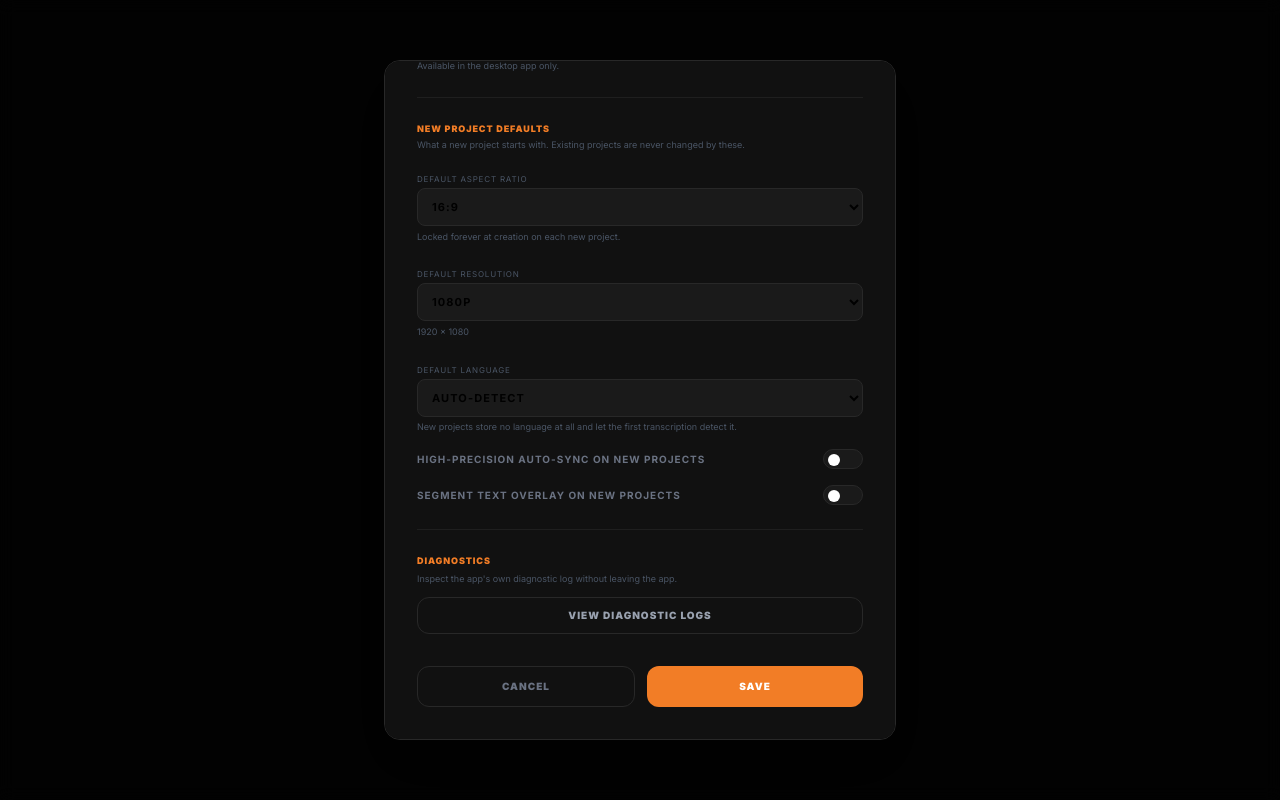
Test: AppSettingsModal — Diagnostics block › opens the diagnostic log modal from the Diagnostics block
(page scrolled)
Click the button with test id "app-settings-view-diagnostic-log" at coordinates (640, 616), box [417,597,863,634]
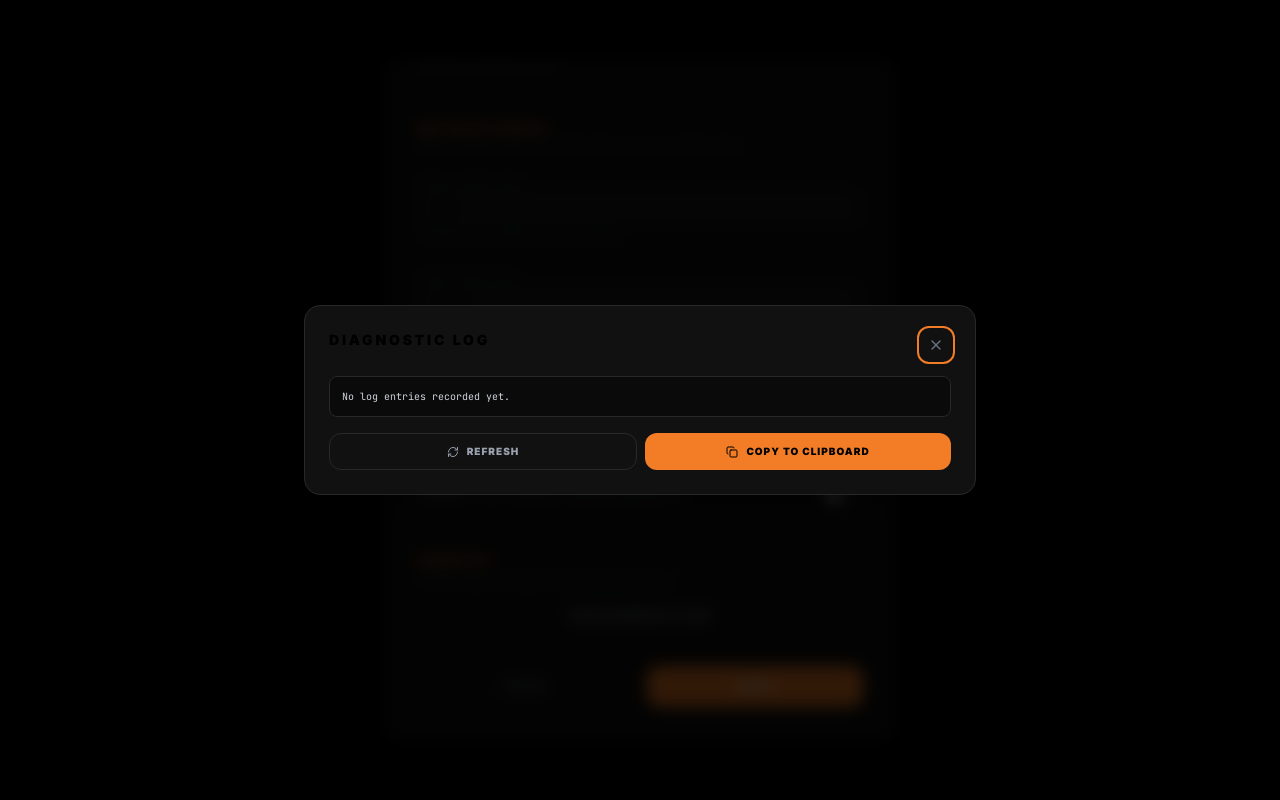
Now the element with test id "diagnostic-log-modal" is shown, box [304,305,976,495]
